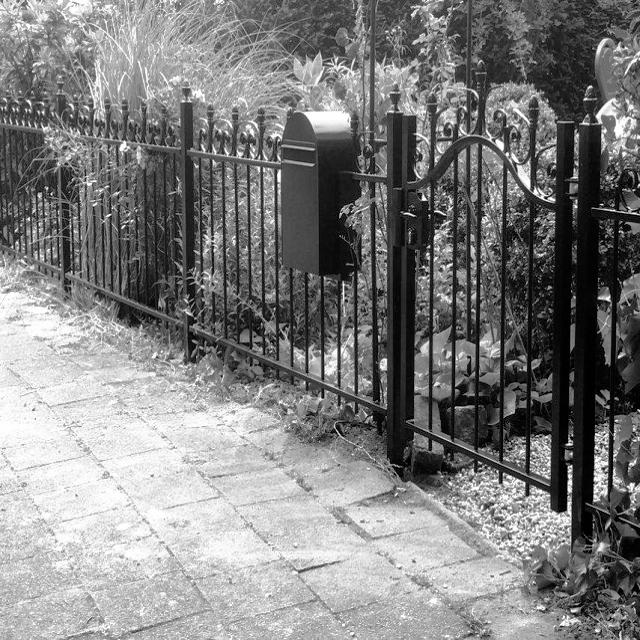fences: (227, 123, 640, 470), (3, 98, 196, 334)
